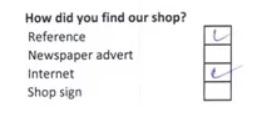checked: (204, 26, 232, 45), (204, 63, 231, 82)
